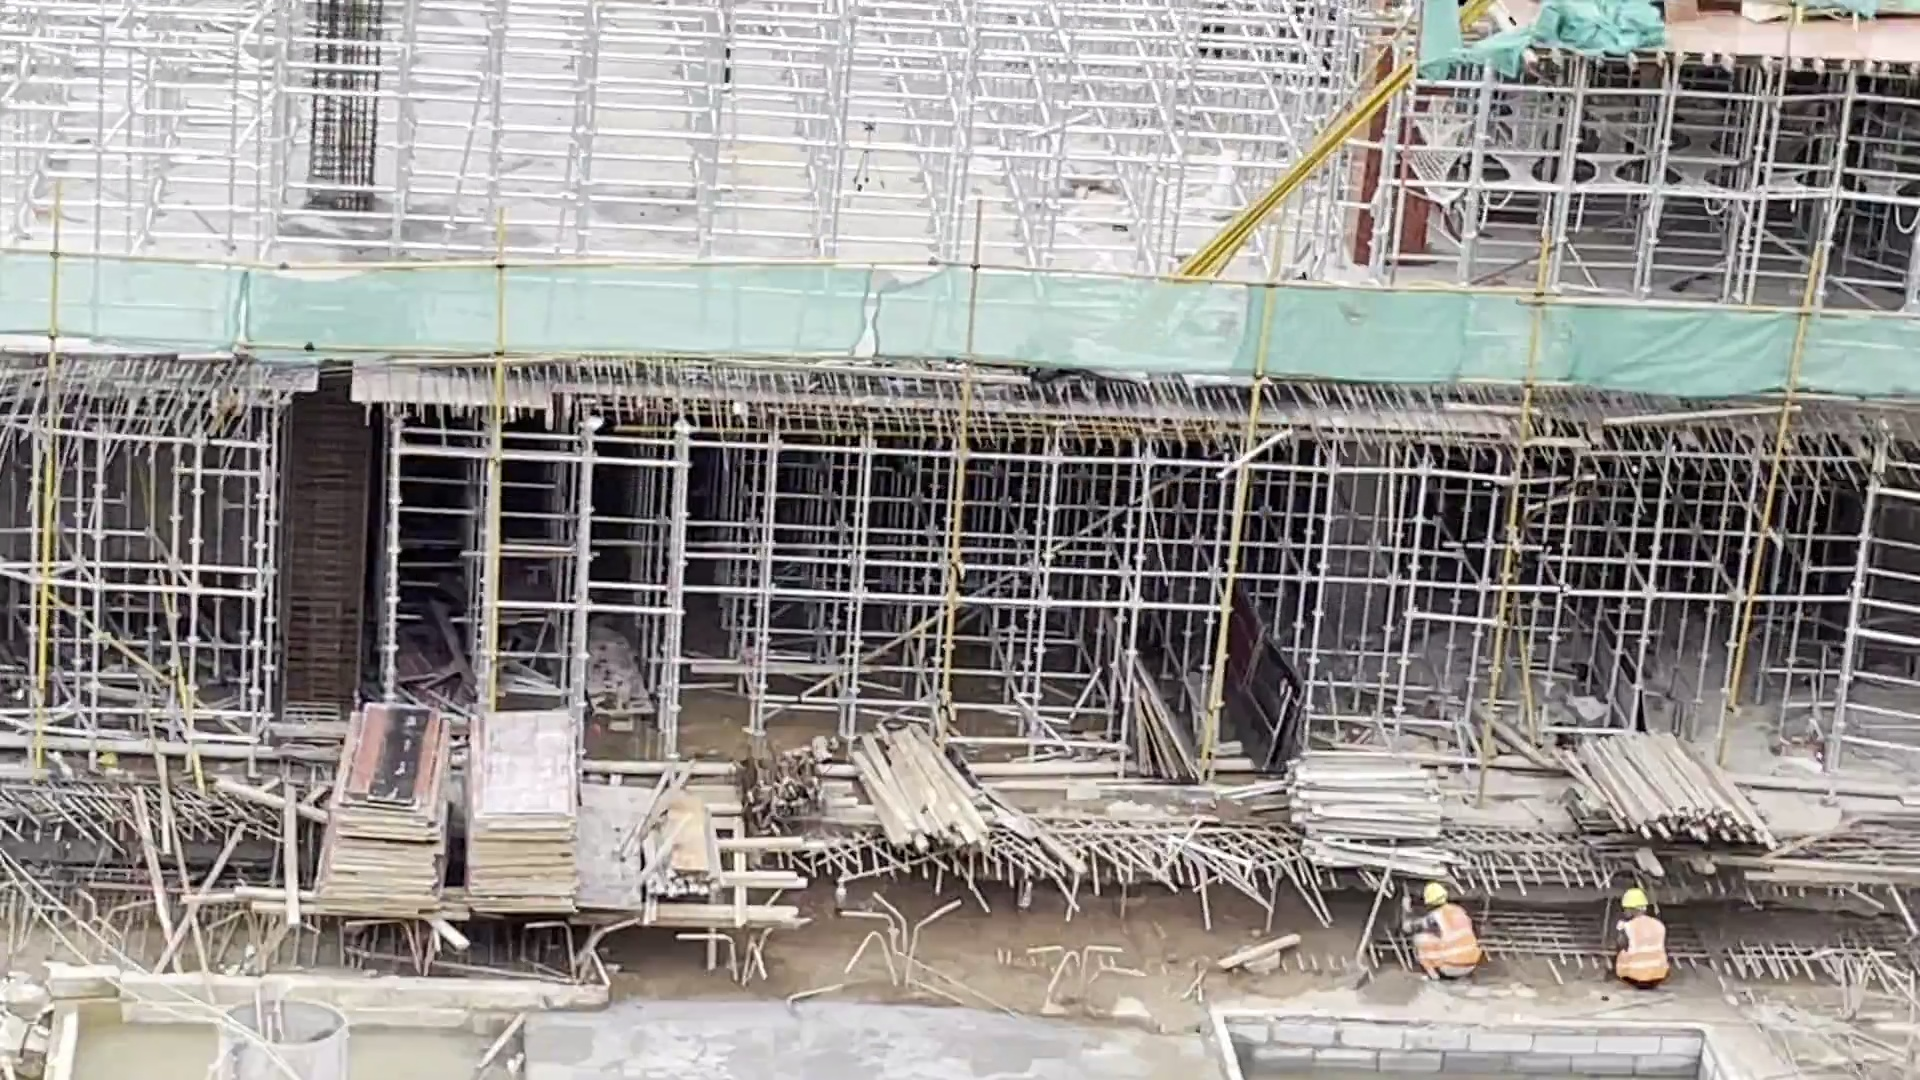board: (314, 696, 595, 924)
helmet: (1619, 889, 1658, 915), (1424, 878, 1453, 906)
person: (1409, 892, 1493, 992), (1599, 885, 1681, 985)
vest: (1615, 917, 1678, 986), (1427, 909, 1487, 976)
wood: (1570, 718, 1781, 853), (1288, 753, 1462, 878), (847, 732, 994, 846)
